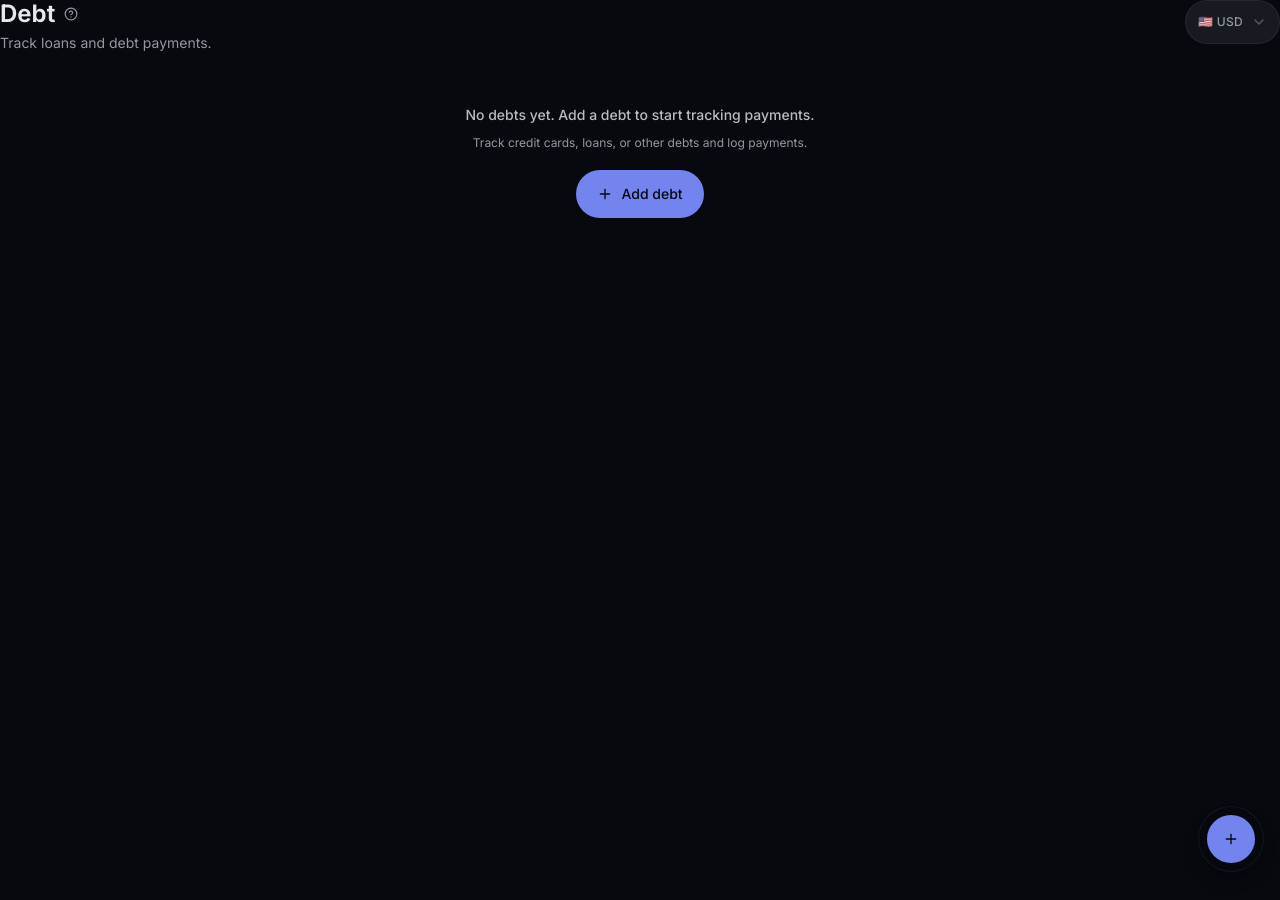
Test: DebtPage opens add debt sheet from page action
This screenshot has width=1280, height=900.
Click the button "Add debt": click(640, 194) [576,170,704,218]
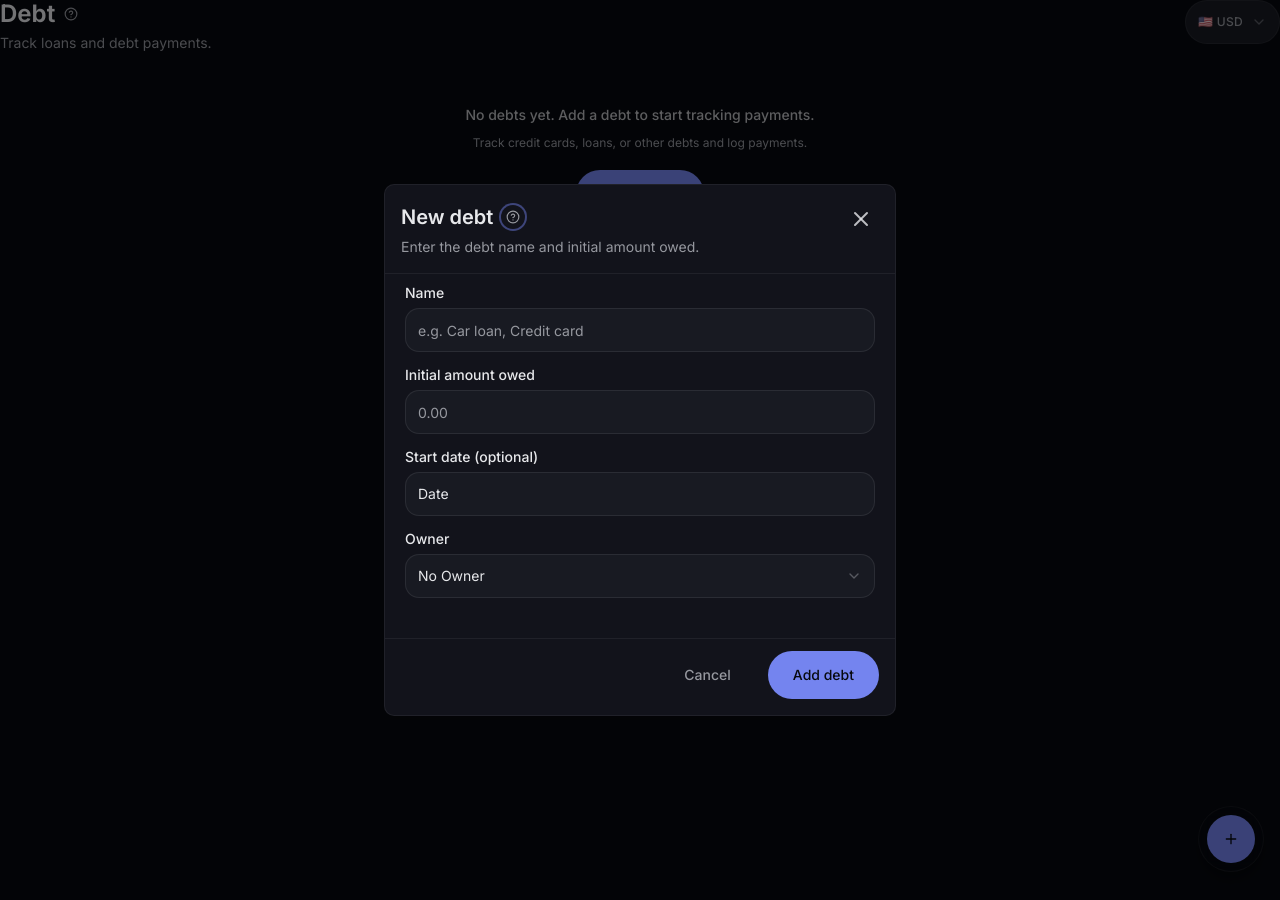
Check: the text "New debt" is shown, box [401,205,525,229]
